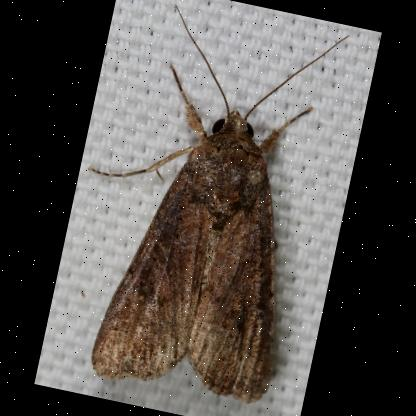Fall Armyworm Moth: (43, 0, 354, 416)
